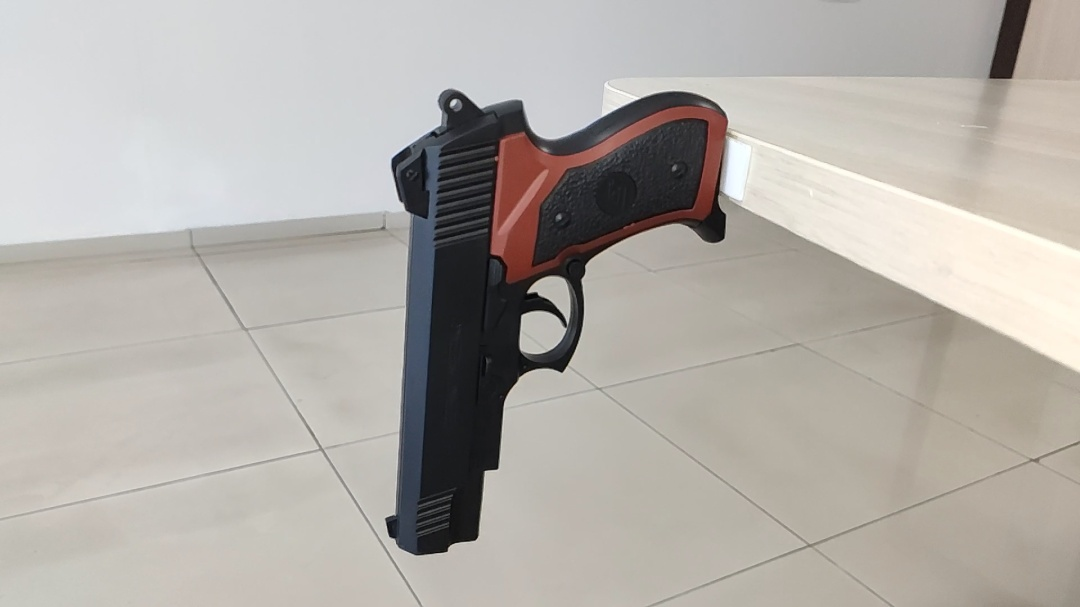gun: (378, 86, 729, 557)
